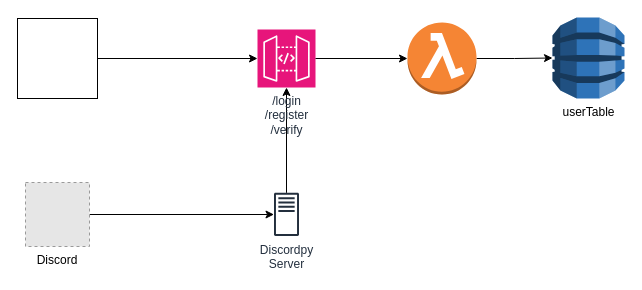
Image size: 642x290. Some labels were removed from this diagram. Grey dashed boxes stand in for pictures. The box of each missing label's shape, as (x1, y1, x2, y2) in pixels:
login service: (406, 22, 476, 94)
Tome Portal (SPA): (16, 18, 98, 98)
